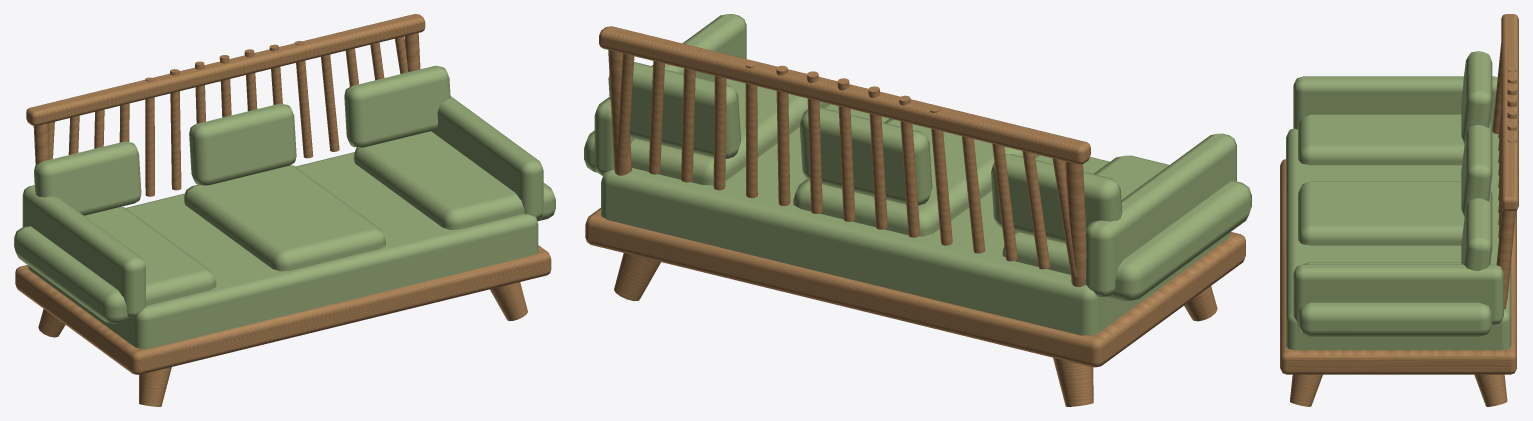
The model's file is sofa_fjord-7318a0268568.glb.
3 views of the same model, side by side, from view 1: azimuth 30°, elevation 25°; view 2: azimuth 150°, elevation 25°; view 3: azimuth 270°, elevation 25° (orthographic). The views are drawn at different scales.
Visible parts, largest first — view 1: surface_sage, surface_oak; view 2: surface_sage, surface_oak; view 3: surface_sage, surface_oak.
Boxes of the visible parts, left/top/right/bottom form: surface_sage: left=14, top=65, right=555, bottom=348; surface_oak: left=15, top=14, right=551, bottom=406; surface_sage: left=584, top=14, right=1251, bottom=335; surface_oak: left=585, top=26, right=1245, bottom=406; surface_sage: left=1286, top=51, right=1511, bottom=350; surface_oak: left=1280, top=14, right=1518, bottom=406.
Size of the model in its own units: 1.75 by 0.8423 by 0.8259.
Materials: 2 (1 with a texture image).
